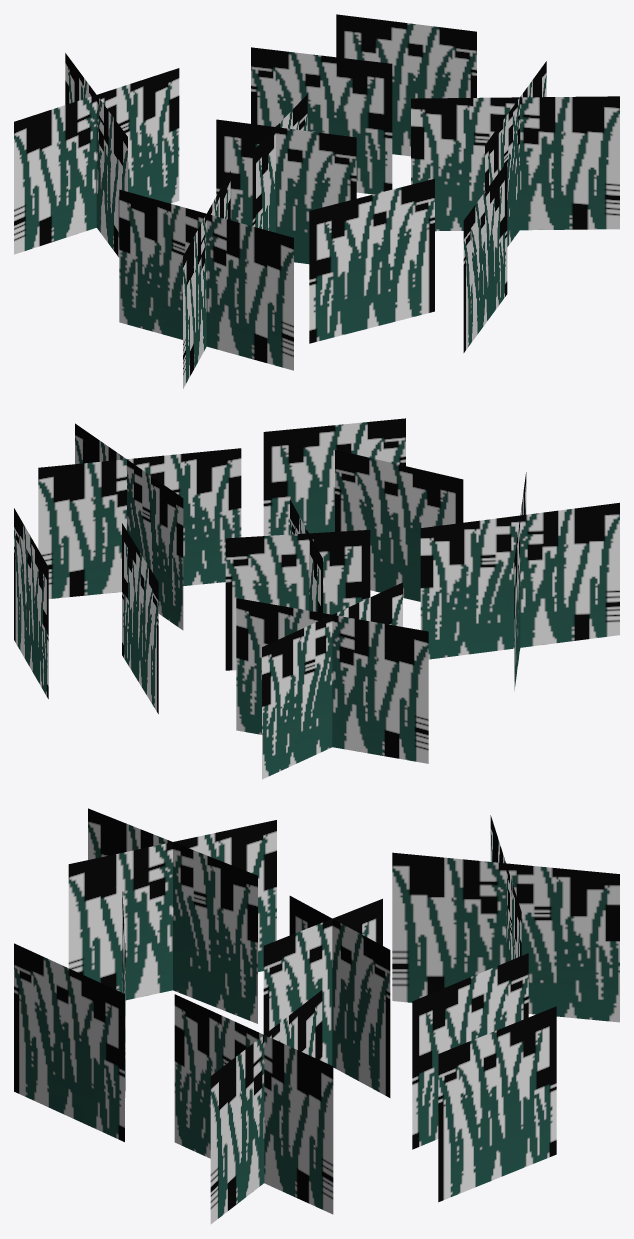
The model's file is Coast Grass.fbx.
3 views of the same model, one above another, from view 1: azimuth 30°, elevation 25°; view 2: azimuth 150°, elevation 25°; view 3: azimuth 270°, elevation 25° (orthographic). The views are drawn at different scales.
Visible parts, largest first — view 1: Plane; view 2: Plane; view 3: Plane.
Boxes of the visible parts, left/top/right/bottom form: Plane: left=14, top=14, right=619, bottom=388; Plane: left=14, top=418, right=619, bottom=779; Plane: left=14, top=808, right=619, bottom=1224.
Bounding box in the file's own units: 1120 × 289 × 1070.
